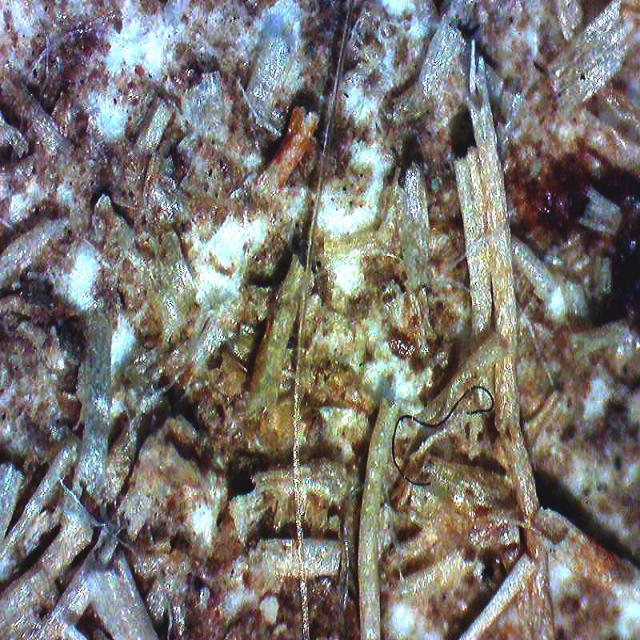microplastic: (391, 386, 494, 487)
